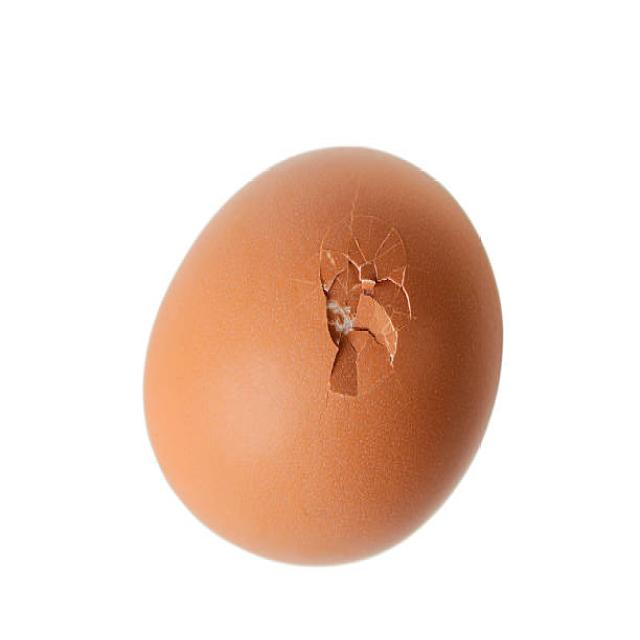Crack: (289, 163, 455, 442)
Egg: (136, 134, 538, 592)
